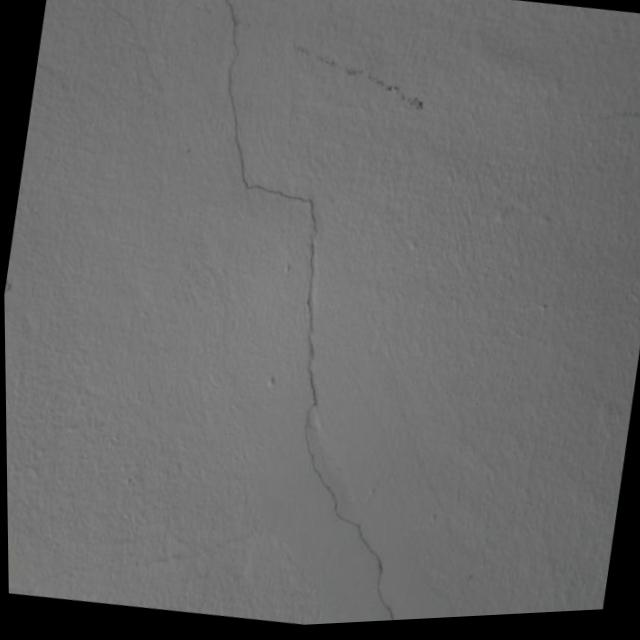Crack: (118, 0, 509, 635)
